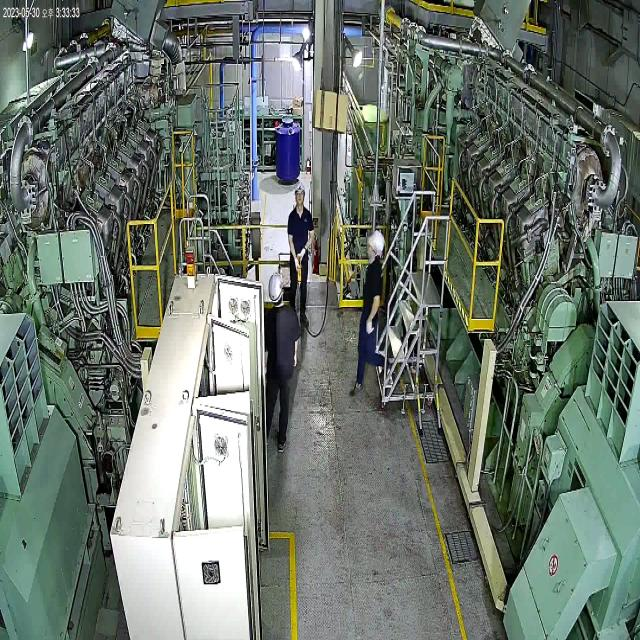Water Tank: (273, 108, 304, 188)
worker: (253, 263, 307, 463), (348, 226, 400, 402), (284, 175, 319, 340)
